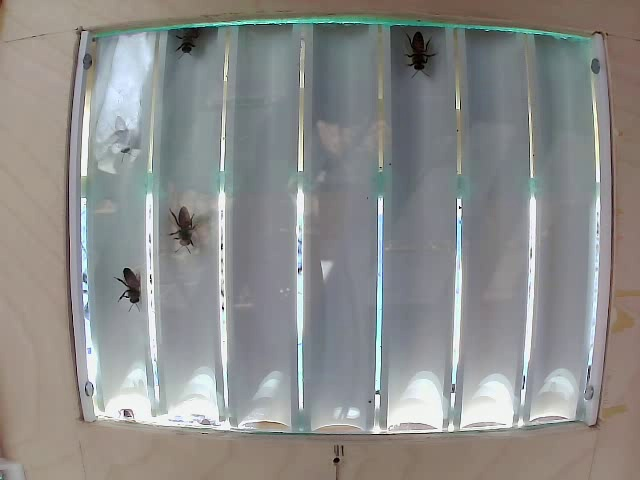bee: (157, 201, 207, 260), (106, 263, 147, 309), (403, 25, 437, 75), (175, 19, 205, 58)
